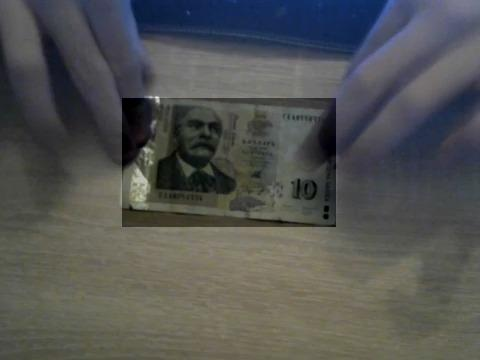10leva: (122, 98, 336, 227)
